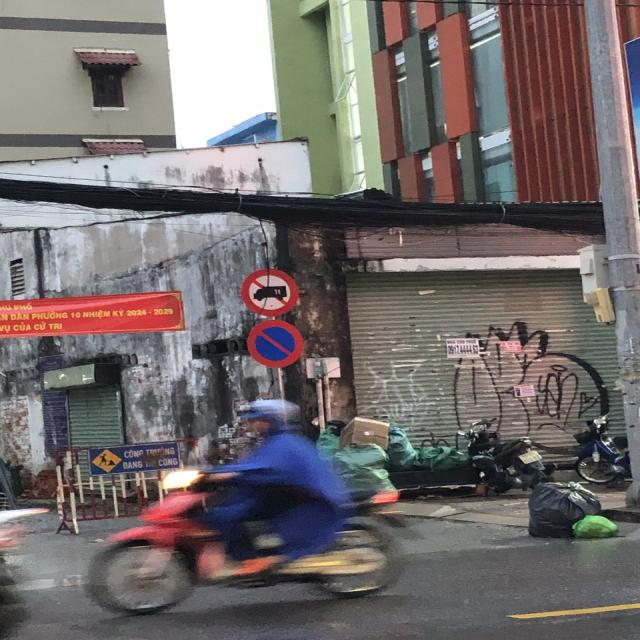Bien bao cam do xe: (241, 316, 307, 371)
Bien bao cam xe oto tai: (234, 266, 306, 319)
